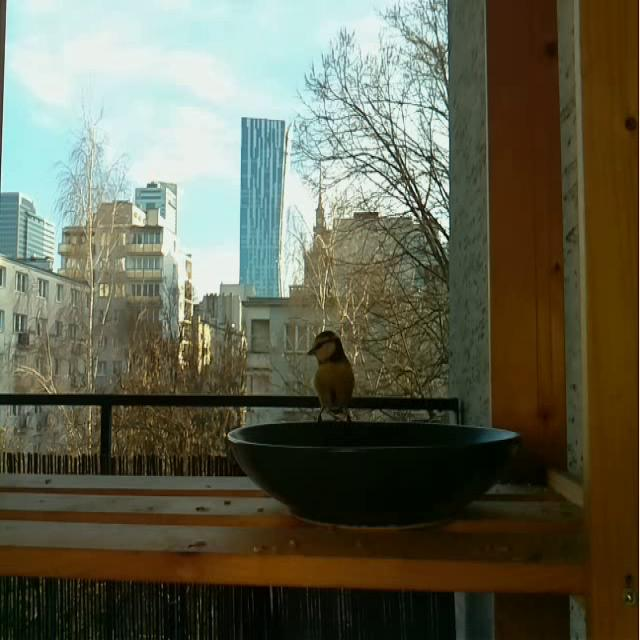Modraszka: (307, 331, 357, 425)
